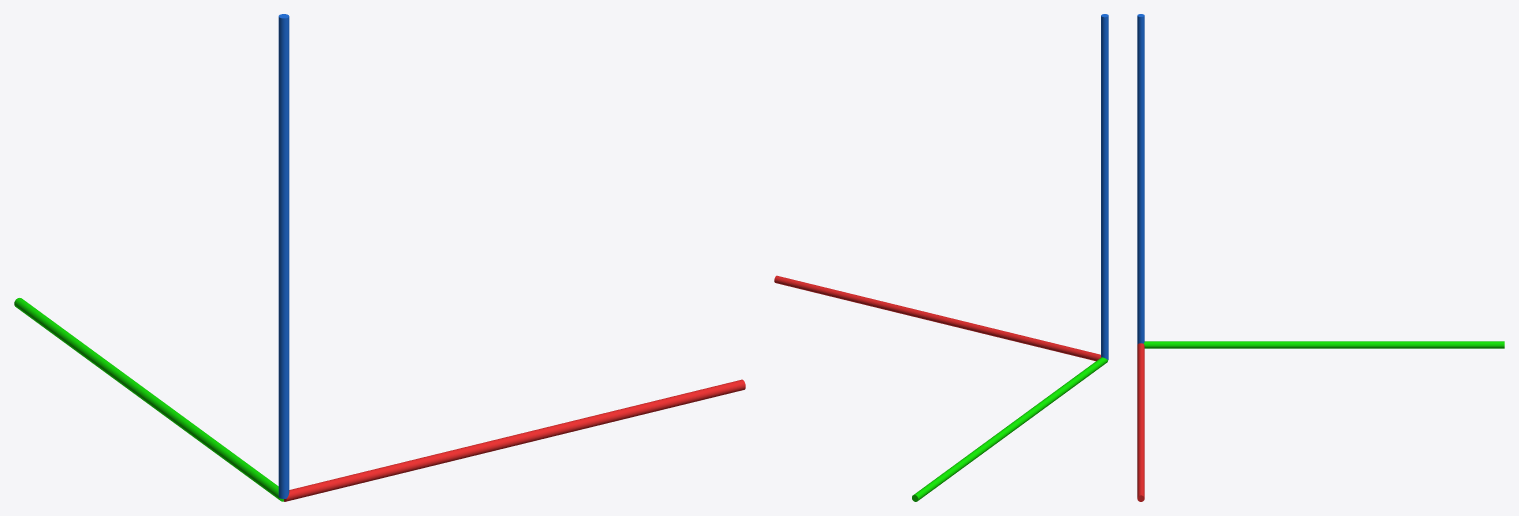
File: axis.fbx
The picture shows the model from 3 angles, left to right: view 1: azimuth 30°, elevation 25°; view 2: azimuth 150°, elevation 25°; view 3: azimuth 270°, elevation 25°; orthographic projection. The views are drawn at different scales.
Parts seen in each view (by area): view 1: Cylinder.002, Cylinder, Cylinder.001; view 2: Cylinder.002, Cylinder, Cylinder.001; view 3: Cylinder.001, Cylinder.002, Cylinder.
Boxes of the visible parts, left/top/right/bottom form: Cylinder.002: left=278, top=14, right=289, bottom=498; Cylinder: left=284, top=379, right=745, bottom=501; Cylinder.001: left=14, top=298, right=283, bottom=501; Cylinder.002: left=1101, top=14, right=1108, bottom=359; Cylinder: left=774, top=275, right=1100, bottom=360; Cylinder.001: left=912, top=357, right=1107, bottom=501; Cylinder.001: left=1143, top=341, right=1504, bottom=348; Cylinder.002: left=1137, top=14, right=1144, bottom=344; Cylinder: left=1137, top=343, right=1144, bottom=501.
Bounding box in the file's own units: 2020 × 2020 × 2020.
